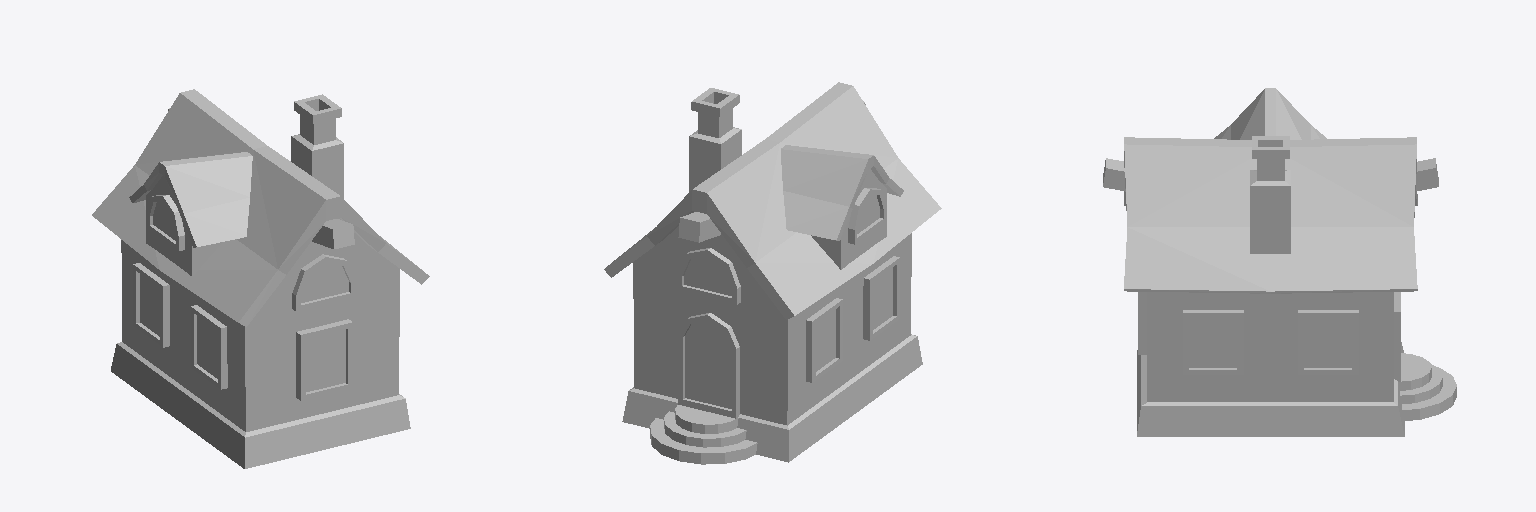
3 views of the same model, side by side, from view 1: azimuth 30°, elevation 25°; view 2: azimuth 150°, elevation 25°; view 3: azimuth 270°, elevation 25° (orthographic).
Parts seen in each view (by area): view 1: Small house w_Small house w_0; view 2: Small house w_Small house w_0; view 3: Small house w_Small house w_0.
Part boxes in pixels (x1,y1,x2,y2): Small house w_Small house w_0: (92,89,429,468); Small house w_Small house w_0: (604,82,941,464); Small house w_Small house w_0: (1103,88,1456,436).
Bounding box in the file's own units: 5.27 × 7.02 × 8.02.